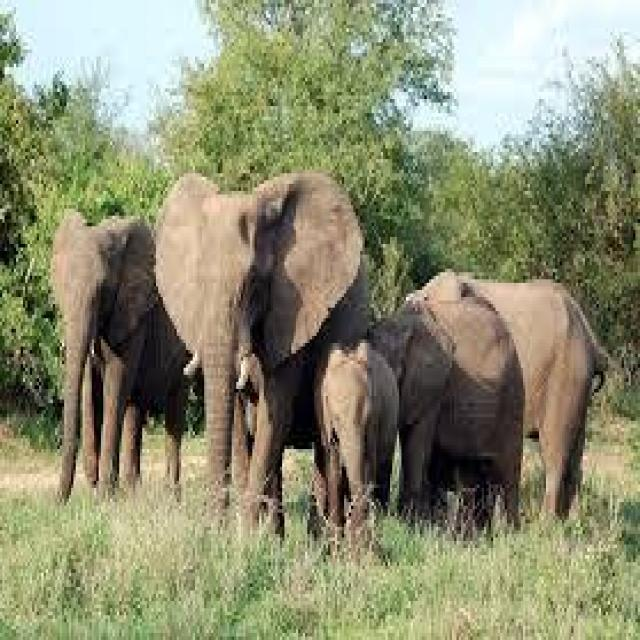Elephant: (154, 166, 369, 538), (372, 269, 594, 520), (48, 205, 177, 495), (308, 329, 400, 530)
